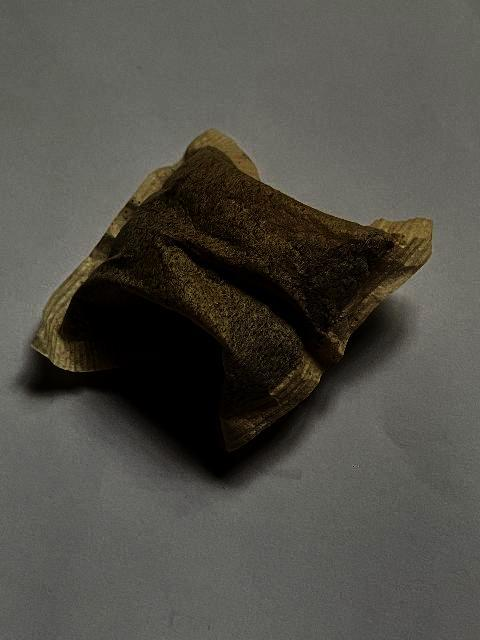teabag: (27, 124, 436, 456)
